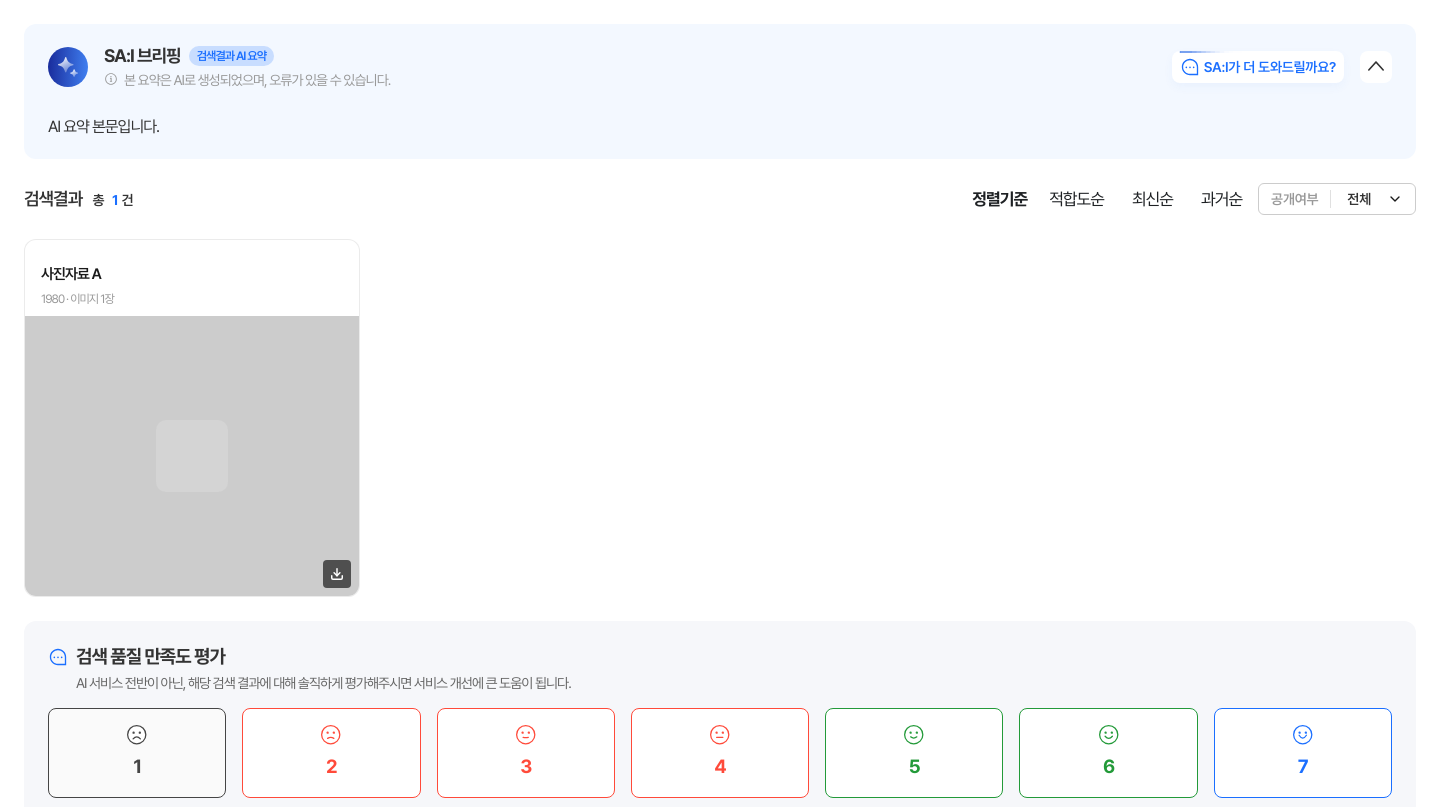
Test case: 결과 카드 클릭 시 자료상세 모달이 열린다
Click the button "사진자료 A 1980 · 이미지 1장" at (192, 418), box 24,239 -> 360,597
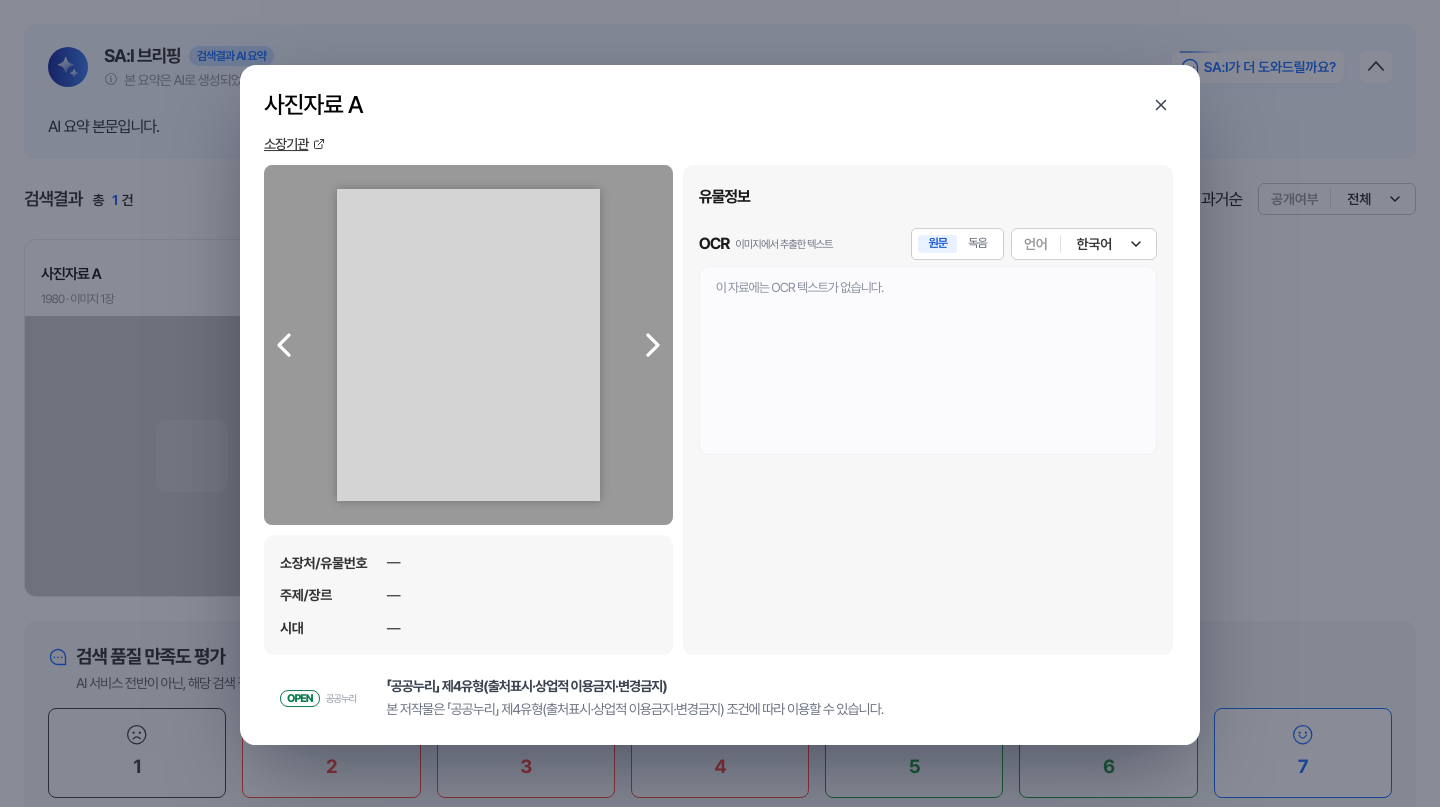
Now the text "소장처/유물번호" is shown, box 280,554 -> 377,572
